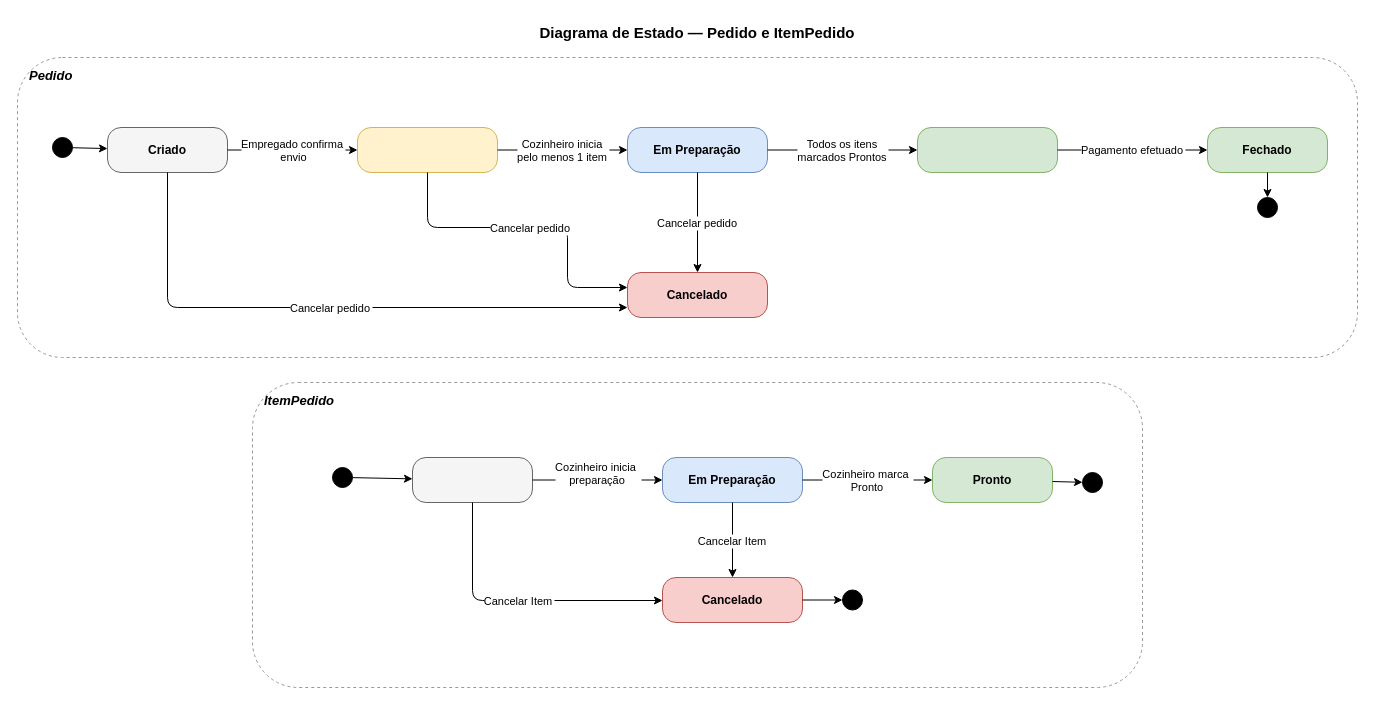
This 1375x705 diagram has some shape labels left out. Each missing label, with the box of its shape:
Enviado para KDS: (356, 126, 498, 172)
Pendente: (412, 456, 532, 502)
Pronto para Servir: (916, 126, 1058, 172)
